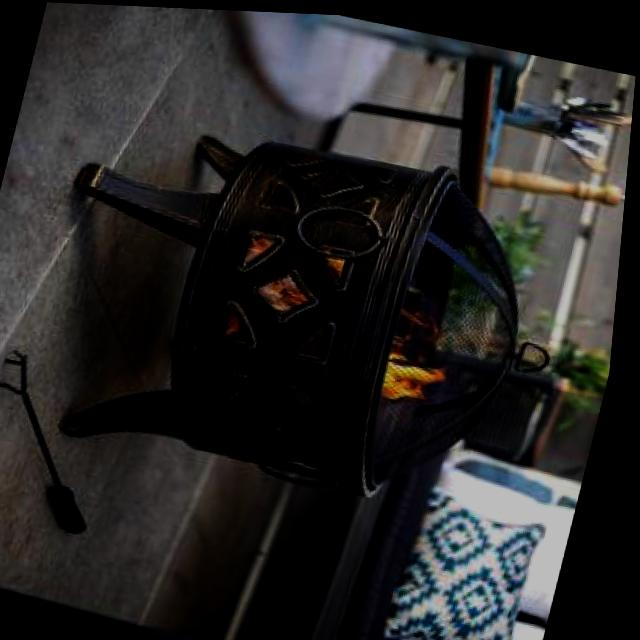Fire: (370, 340, 467, 411)
